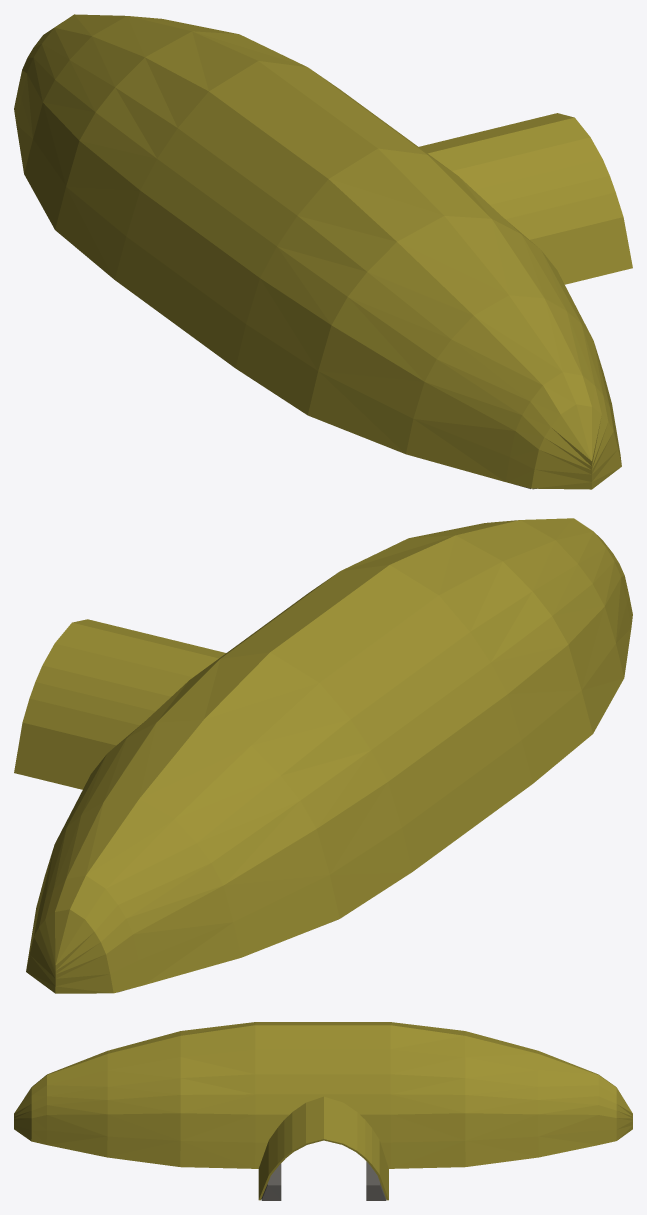
File: Strohhaus 2 (smaller).fbx
3 renders of one model, top to bottom at view 1: azimuth 30°, elevation 25°; view 2: azimuth 150°, elevation 25°; view 3: azimuth 270°, elevation 25°, orthographic. The views are drawn at different scales.
Visible parts, largest first — view 1: Strohhaus 1; view 2: Strohhaus 1; view 3: Strohhaus 1.
Boxes of the visible parts, x1,y1,x2,y2 form: Strohhaus 1: (14,14,632,489); Strohhaus 1: (14,518,632,993); Strohhaus 1: (14,1022,632,1200).
Bounding box in the file's own units: 427 × 187 × 1007.
